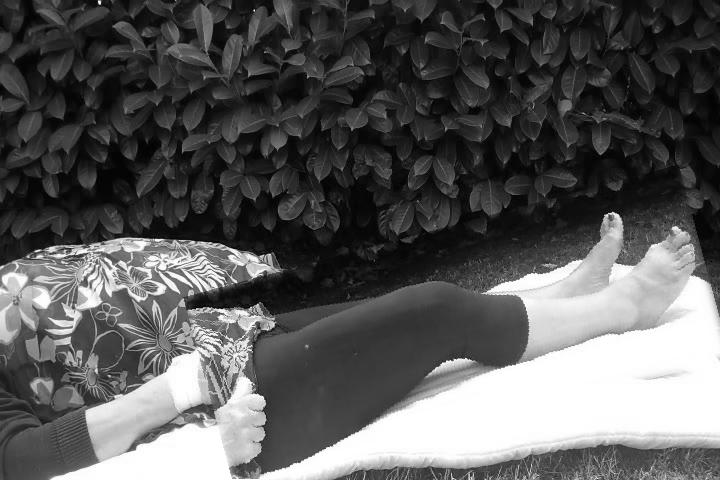lower_body: (192, 197, 720, 460)
